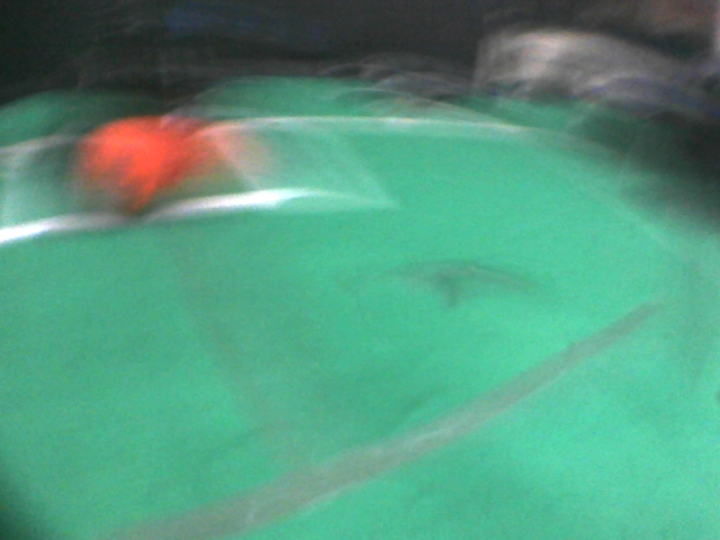bola: (74, 114, 217, 238)
